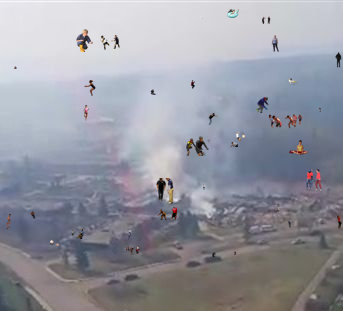Human: (269, 114, 303, 129), (186, 136, 211, 156), (156, 178, 175, 204), (305, 169, 327, 191), (84, 80, 114, 96), (76, 29, 93, 52), (153, 207, 177, 220), (100, 35, 120, 50), (289, 140, 308, 155), (256, 97, 270, 113), (276, 204, 295, 212), (271, 35, 279, 52), (126, 246, 140, 255), (208, 113, 218, 125), (72, 229, 84, 239), (335, 52, 342, 68), (227, 9, 239, 18), (83, 105, 89, 121), (236, 132, 245, 141), (287, 78, 298, 85), (6, 214, 11, 229), (262, 16, 271, 24), (337, 215, 342, 229), (50, 239, 59, 246), (148, 89, 158, 95), (30, 211, 36, 219), (230, 142, 238, 147), (128, 230, 132, 240), (191, 80, 195, 89), (288, 221, 291, 228), (212, 252, 216, 257), (203, 184, 205, 190), (319, 107, 321, 112), (14, 66, 17, 69), (234, 251, 236, 255), (242, 199, 243, 201), (202, 18, 203, 19)
